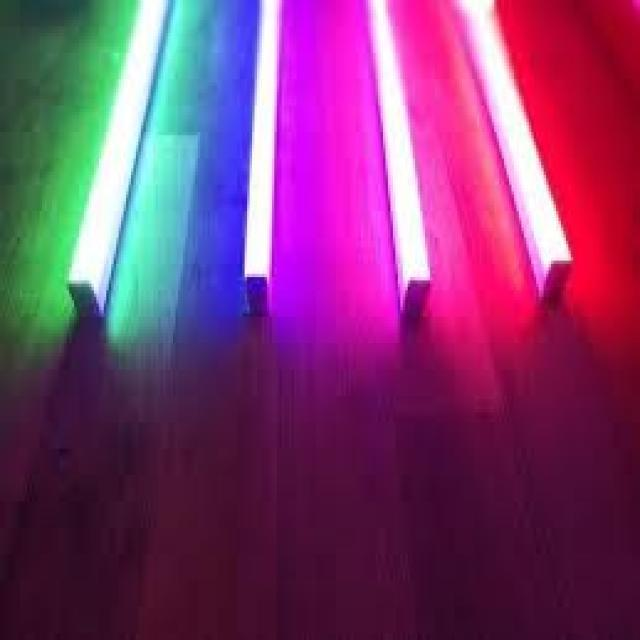tubelight_on: (449, 0, 580, 308), (55, 0, 173, 326), (367, 1, 442, 325), (227, 1, 289, 300)
